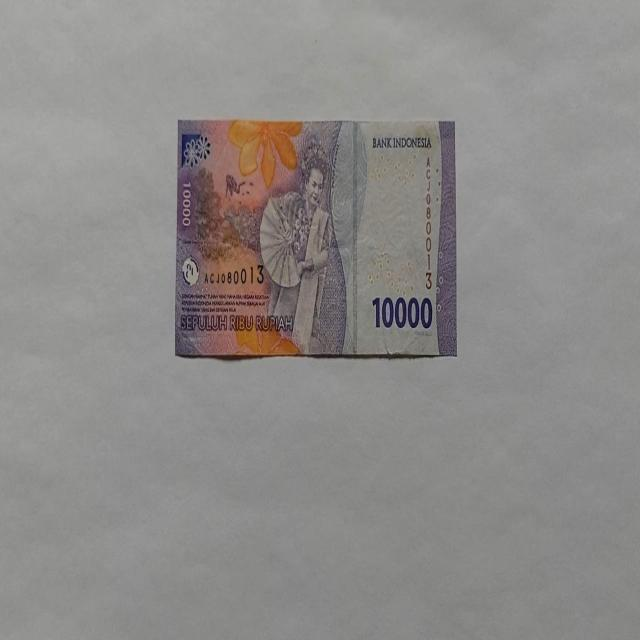Kertas: (174, 117, 456, 360), (371, 293, 433, 331)
